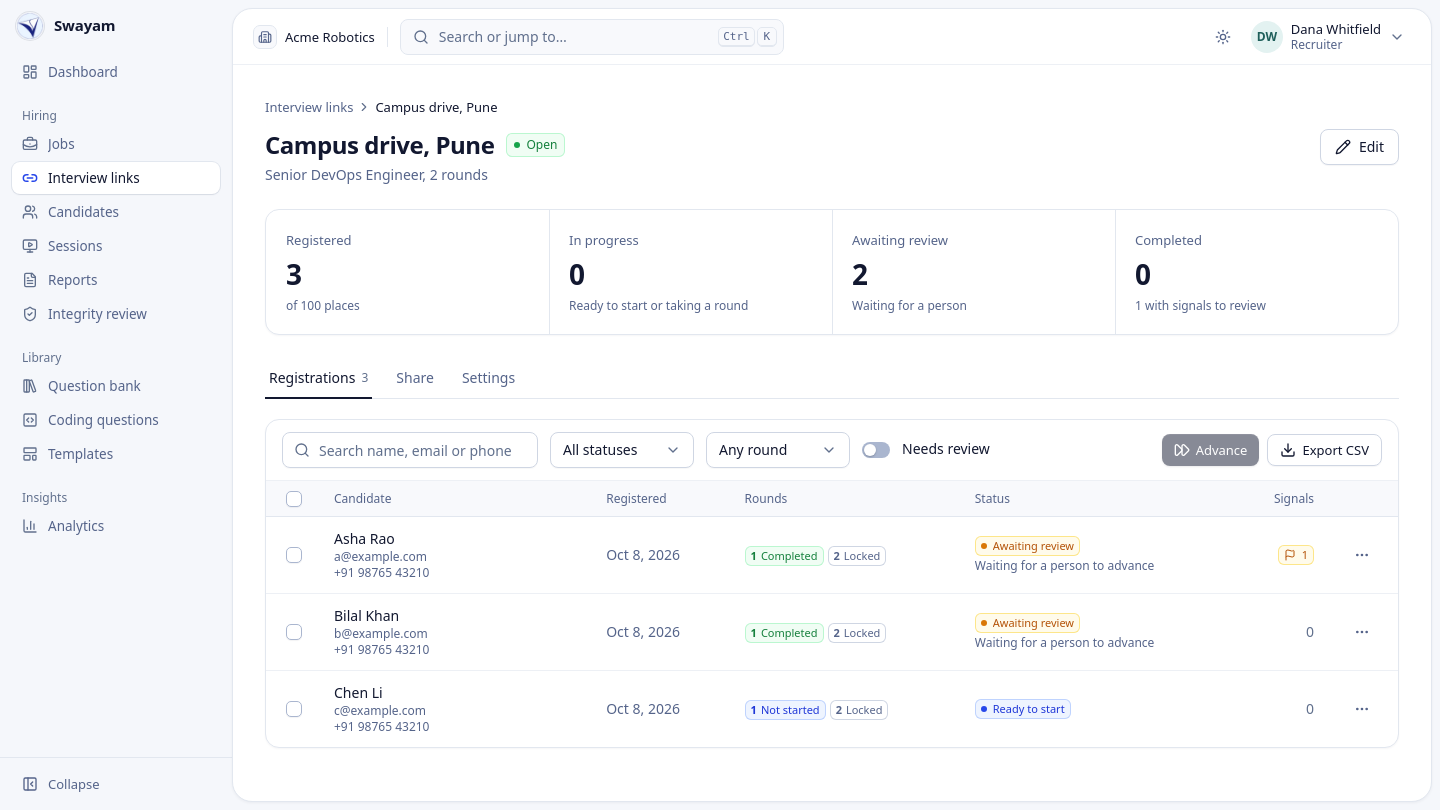
it: link detail: registrations › reissues a personal link and shows it once
Step 1. Press Enter in the button with test id "registration-actions", box [1346, 693, 1378, 725]
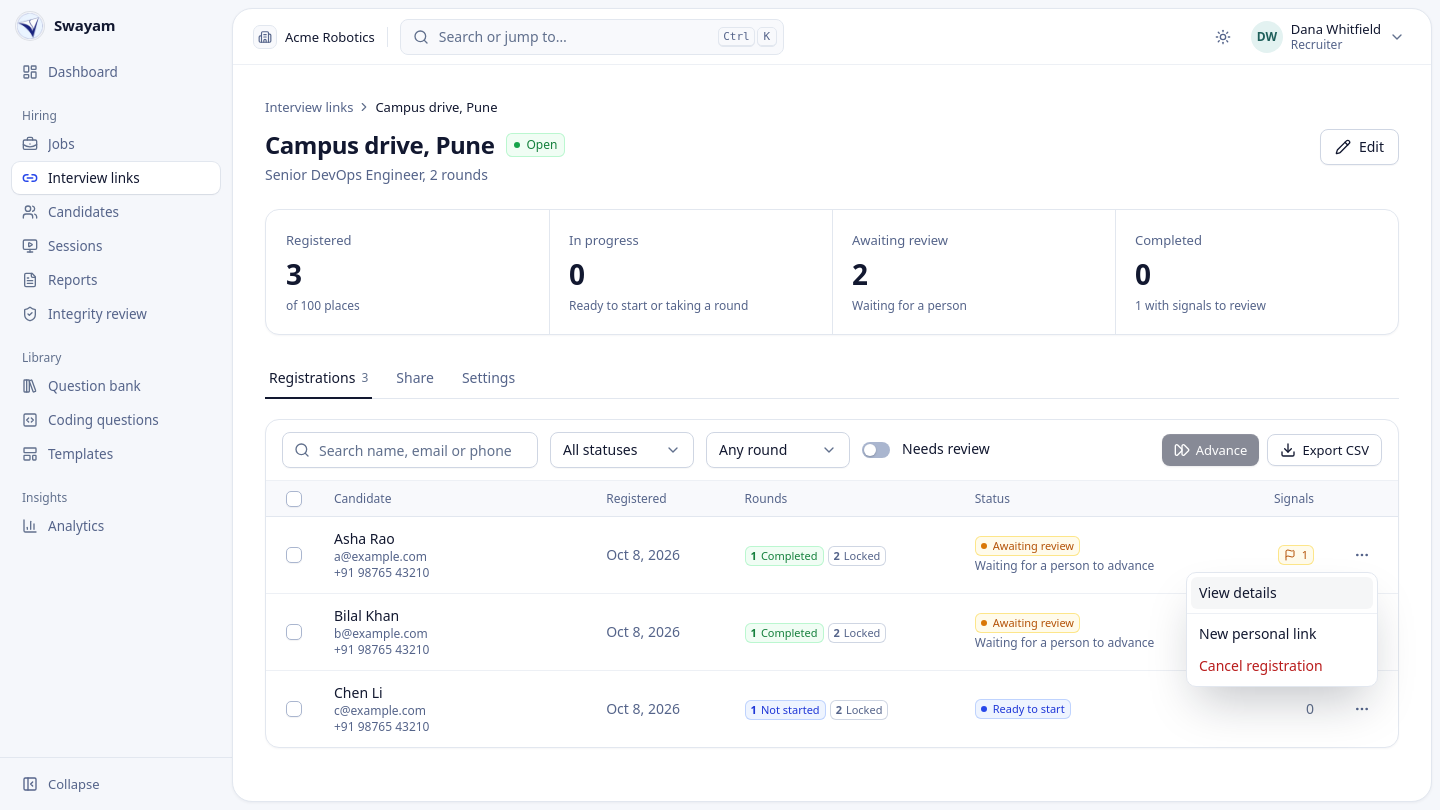
Step 2. Click the menu item with test id "registration-reissue-link" → {"x": 1258, "y": 634}, box [1199, 624, 1316, 643]
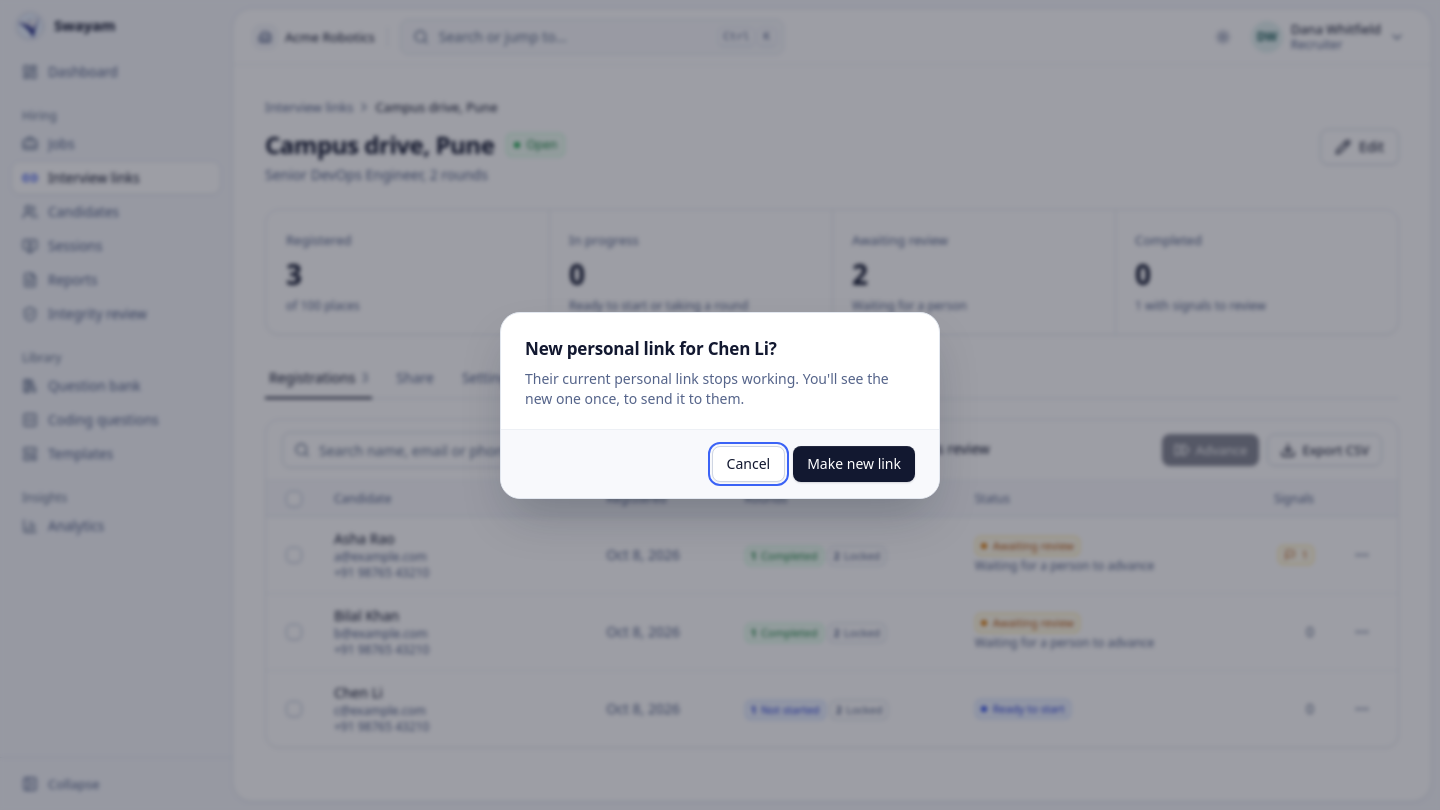
Step 3. Click the button "Make new link" → {"x": 854, "y": 464}, box [793, 446, 915, 482]
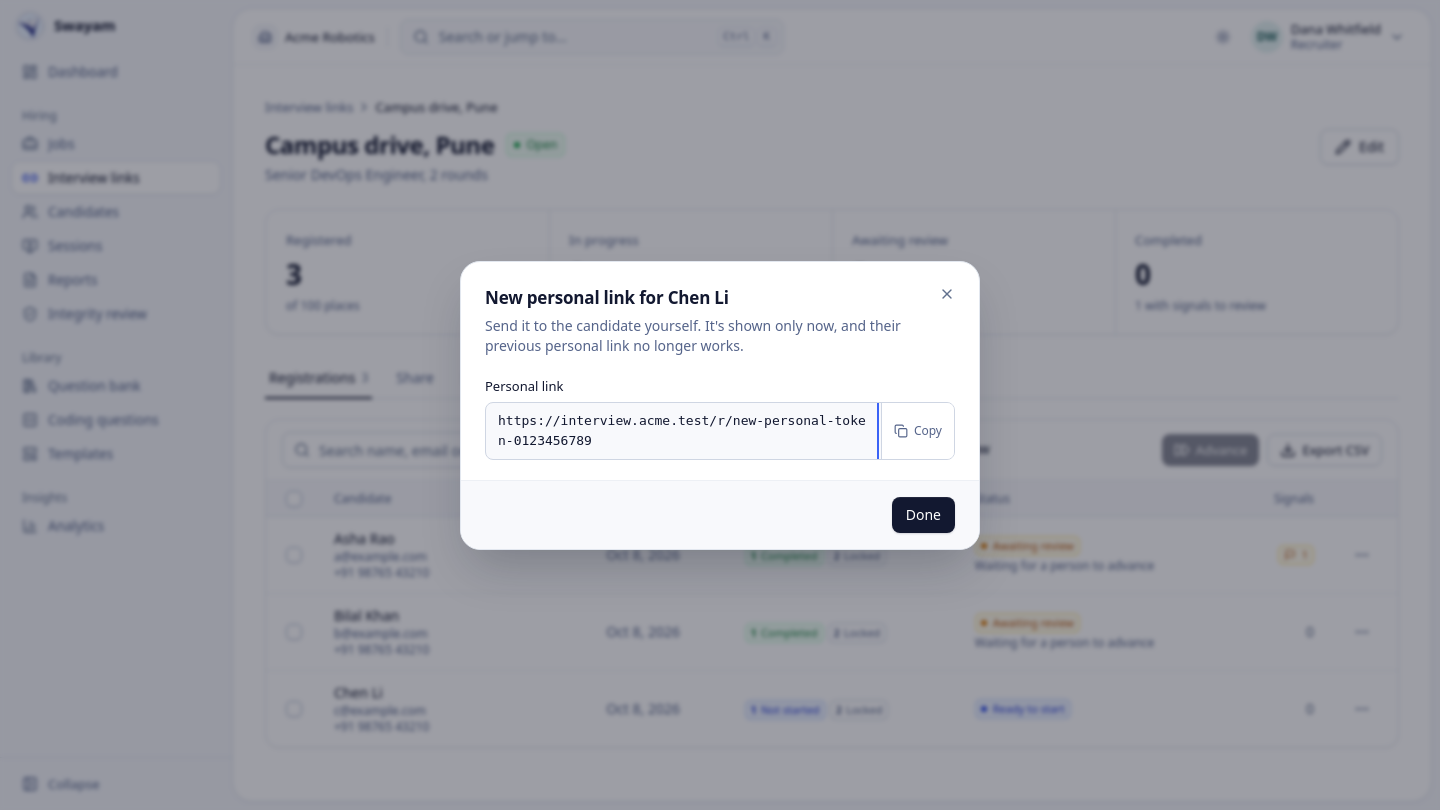
expect the text with test id "registration-personal-url" reads "https://interview.acme.test/r/new-personal-token-0123456789": met, box [498, 412, 866, 448]
